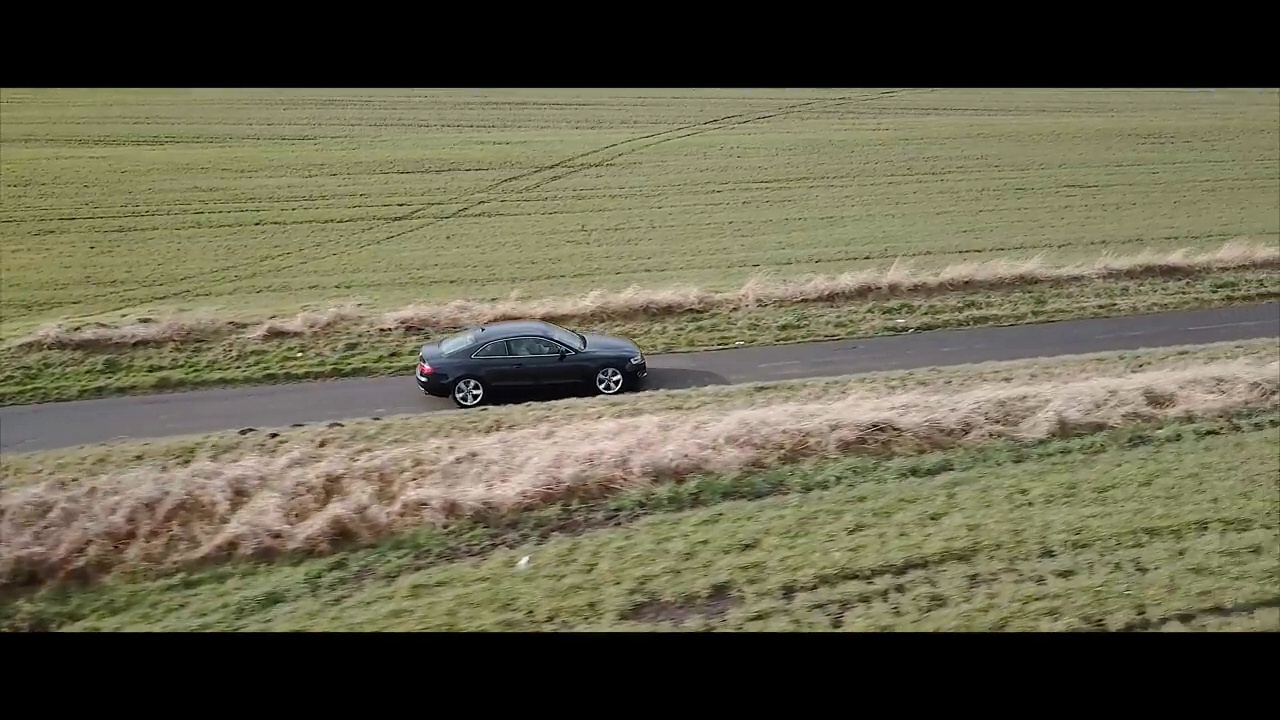araba: (410, 319, 650, 407)
